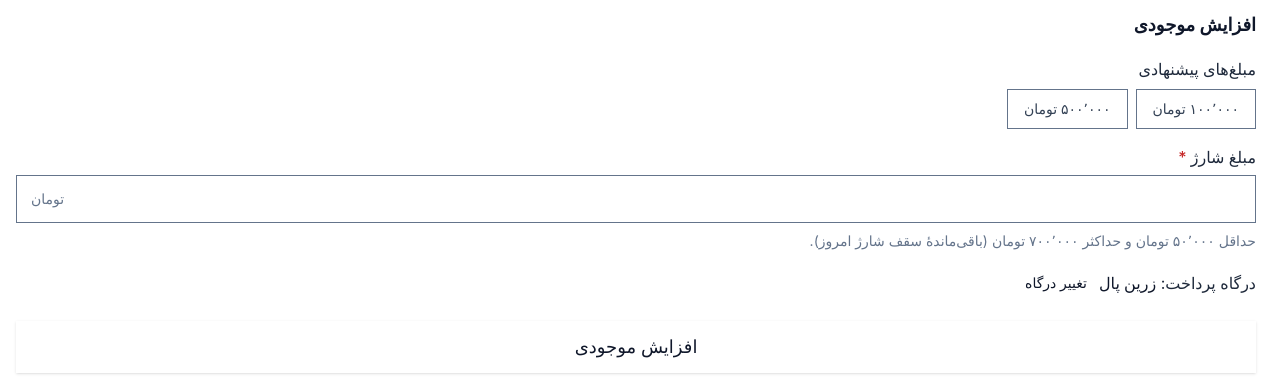
Test: the amount › the presets inside the bounds only; a chip fills the amount
Click the button "۵۰۰٬۰۰۰ تومان".
click(1067, 109)  # box [1007,89,1128,129]
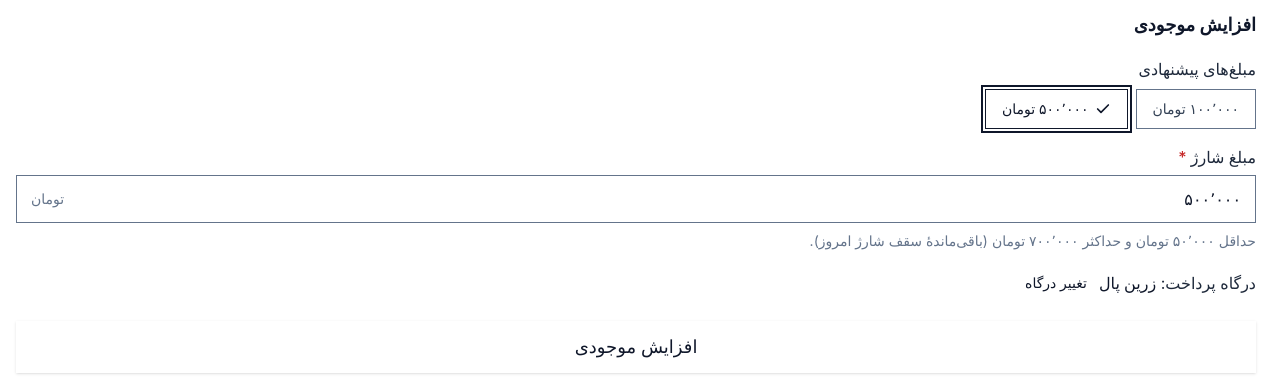
expect the field labelled "مبلغ شارژ *" holds "۵۰۰٬۰۰۰": met, box [64,176,1255,222]
